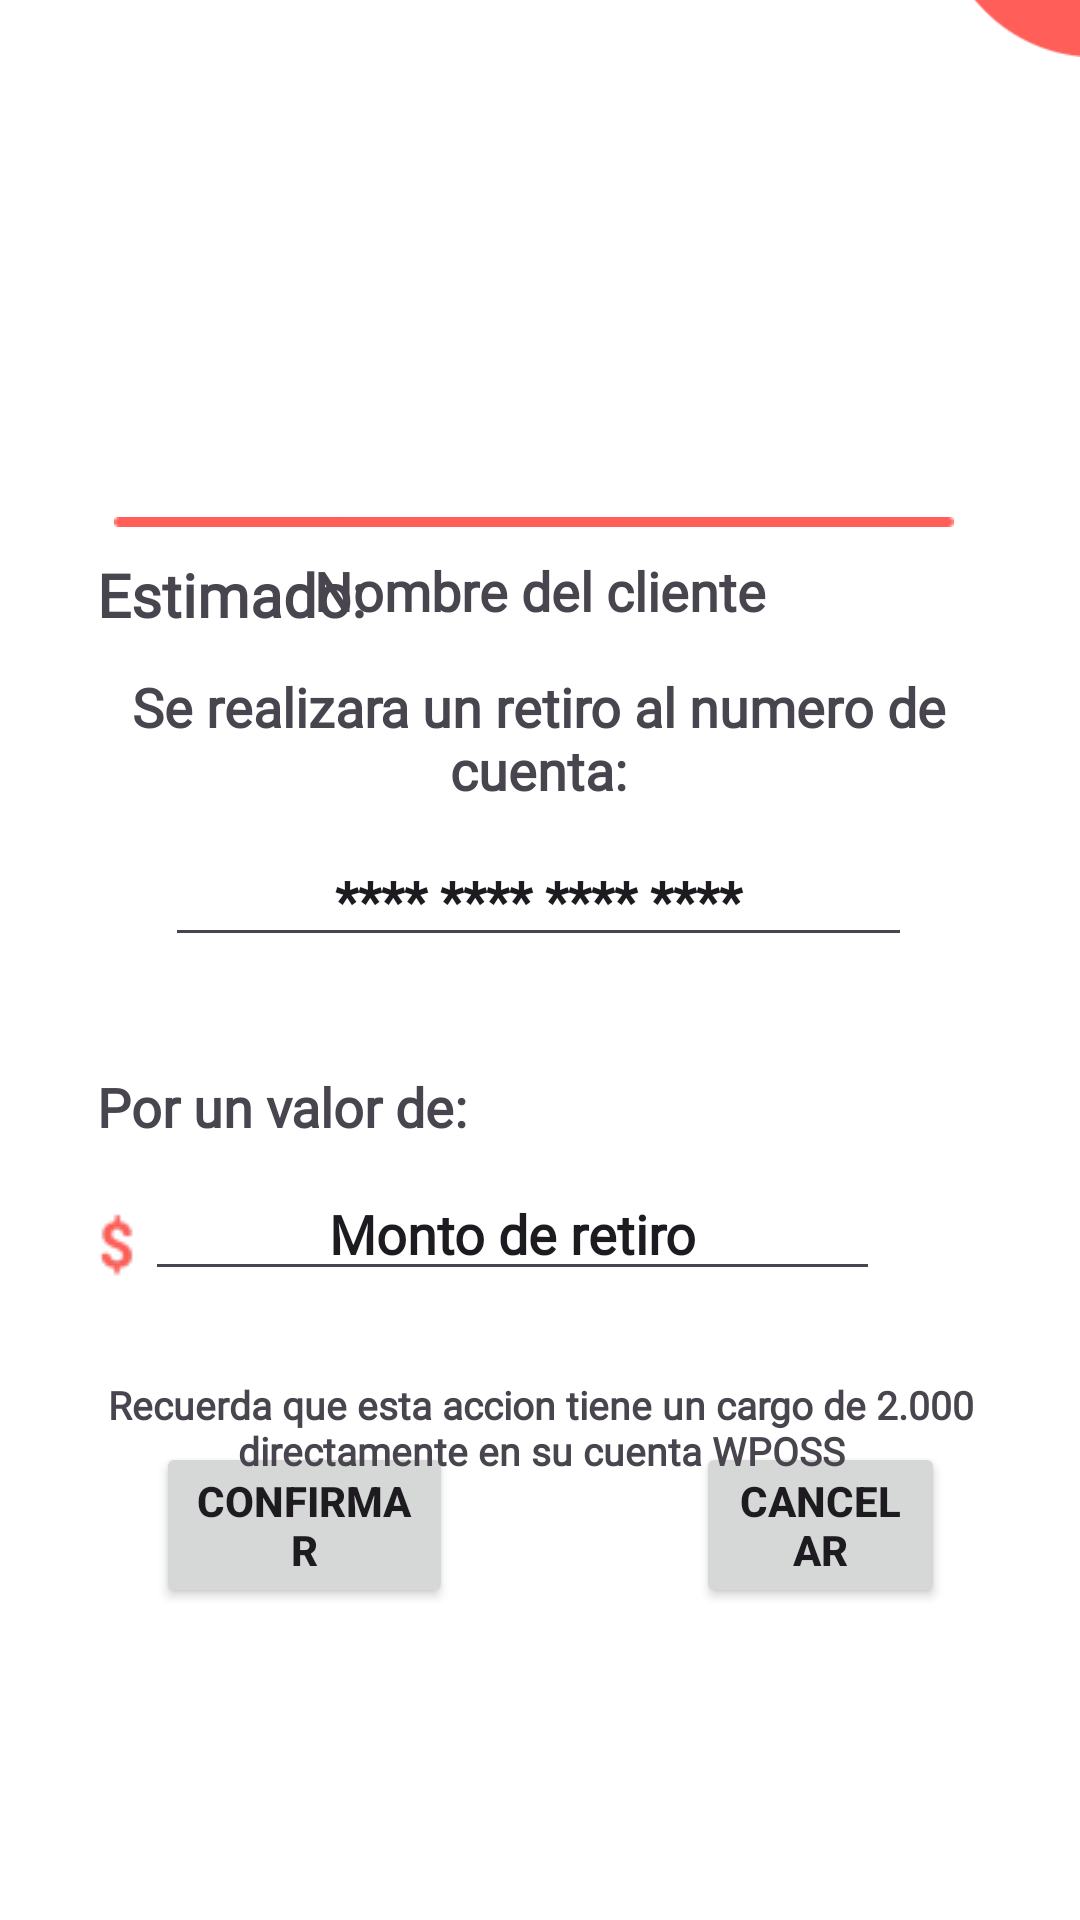

Screen size 1080 x 1920. Icon name, then its box in pixels as (x1, y1, x2, y2):
money: (101, 1214, 133, 1275)
